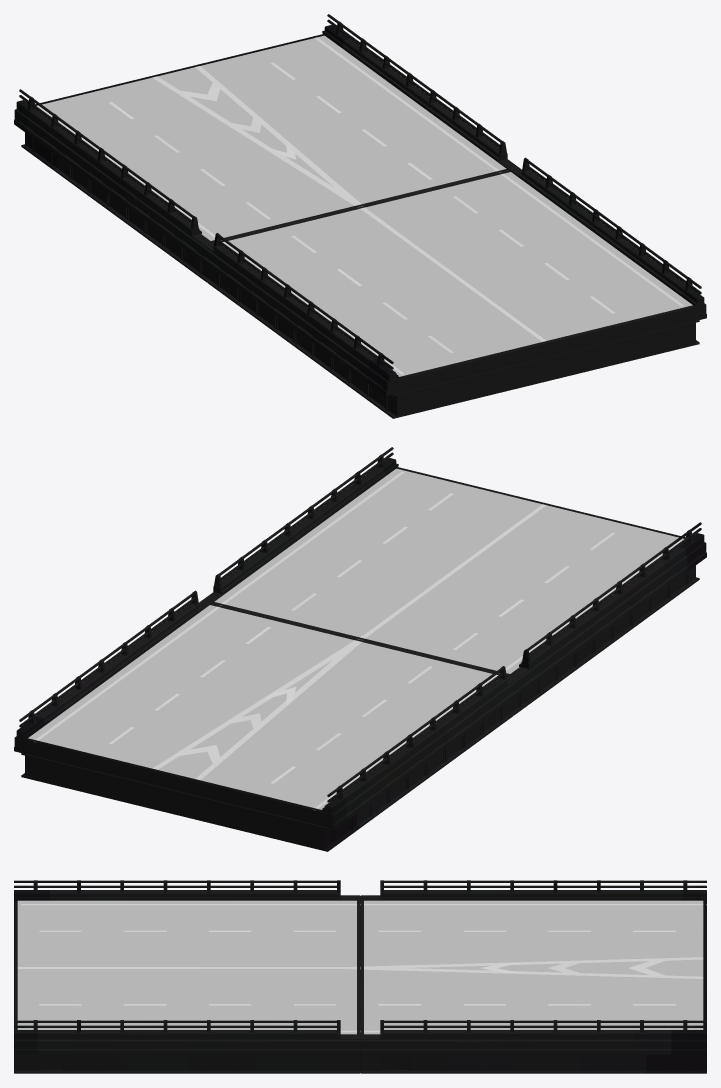
File: Highway_Segment06.fbx
The picture shows the model from 3 angles, top to bottom: view 1: azimuth 30°, elevation 25°; view 2: azimuth 150°, elevation 25°; view 3: azimuth 270°, elevation 25°; orthographic projection. The views are drawn at different scales.
Parts seen in each view (by area): view 1: SM_City_Highway_Segment_03a_02.mo; view 2: SM_City_Highway_Segment_03a_02.mo; view 3: SM_City_Highway_Segment_03a_02.mo.
Part boxes in pixels (left/top/right/bottom): SM_City_Highway_Segment_03a_02.mo: left=14, top=14, right=706, bottom=418; SM_City_Highway_Segment_03a_02.mo: left=14, top=447, right=706, bottom=851; SM_City_Highway_Segment_03a_02.mo: left=14, top=880, right=706, bottom=1073.
Bounding box in the file's own units: 1990 × 342 × 4000.
